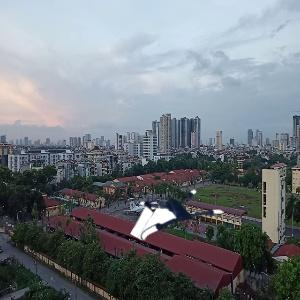drone: (140, 174, 223, 257)
